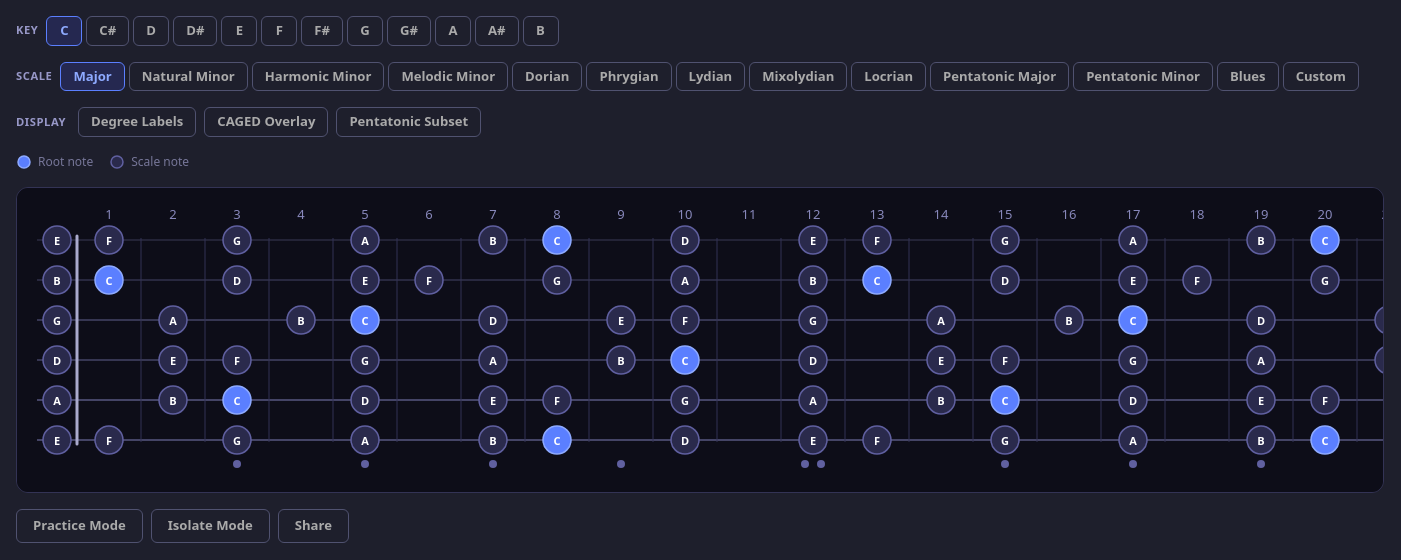
Test: ScalesPage – Pentatonic Subset button enabled/disabled state › IS disabled when the current scale is Pentatonic Minor
Step 1. Click the radio button labelled "Pentatonic Minor" → {"x": 1143, "y": 77}, box [1073, 62, 1213, 91]
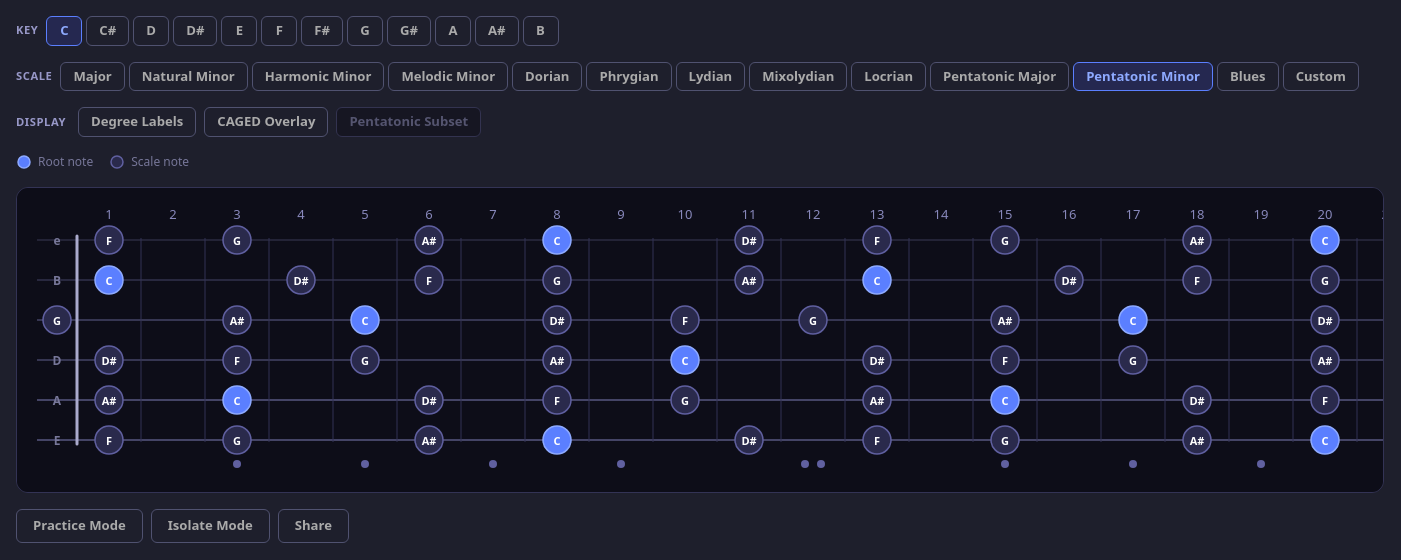
Result: the button "Pentatonic Subset" is disabled at [336, 107, 481, 137]
